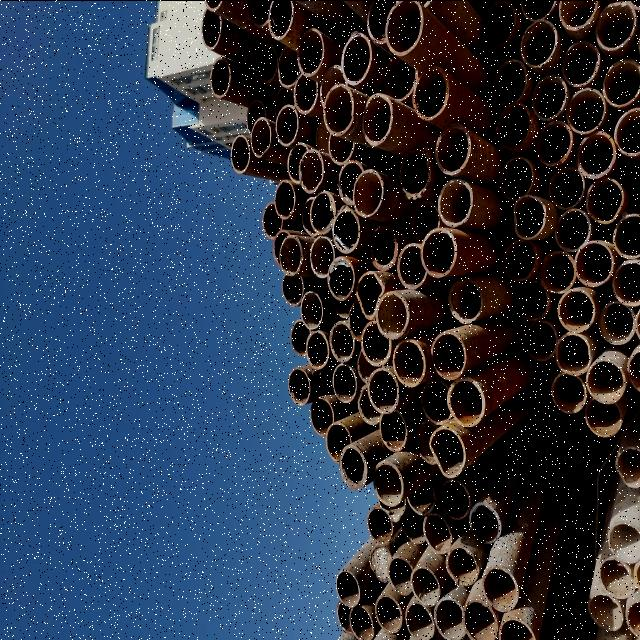pipe: (594, 0, 635, 52), (411, 64, 449, 120), (385, 1, 423, 57), (447, 376, 485, 430), (428, 330, 468, 380), (434, 122, 472, 174), (602, 56, 640, 108), (429, 426, 465, 480), (397, 147, 433, 201), (564, 88, 606, 134), (419, 227, 456, 279), (480, 564, 520, 612), (573, 238, 613, 286), (519, 18, 557, 68), (576, 131, 616, 177), (535, 120, 574, 166), (585, 176, 623, 223), (383, 52, 417, 104), (556, 289, 596, 333), (586, 359, 625, 404), (494, 104, 532, 150), (562, 40, 600, 86), (340, 31, 372, 85), (481, 1, 517, 48), (582, 396, 622, 438), (361, 92, 392, 146), (597, 301, 635, 345), (531, 75, 567, 121), (554, 206, 590, 252), (437, 178, 471, 226), (375, 290, 409, 338), (554, 331, 591, 375), (392, 339, 424, 389), (322, 84, 354, 134), (598, 557, 636, 599), (548, 165, 584, 209), (502, 238, 538, 282), (448, 278, 482, 324), (512, 194, 546, 240), (352, 168, 383, 218), (462, 597, 498, 640), (395, 242, 427, 290), (550, 372, 586, 414), (540, 252, 576, 294), (355, 270, 385, 320), (366, 0, 400, 44), (493, 60, 527, 104), (606, 522, 640, 566), (420, 380, 452, 426), (499, 157, 533, 200), (610, 258, 640, 306), (587, 592, 623, 632), (432, 598, 466, 640), (515, 280, 549, 322), (367, 368, 398, 414), (372, 461, 403, 506), (445, 545, 479, 586), (468, 503, 501, 545), (407, 200, 440, 242), (361, 320, 391, 366), (368, 225, 397, 272), (523, 322, 557, 362), (296, 28, 324, 76), (338, 444, 368, 488), (614, 106, 640, 156), (337, 160, 365, 206), (612, 212, 640, 258), (438, 480, 470, 520), (410, 566, 440, 608), (422, 512, 452, 554), (319, 64, 345, 112), (325, 420, 353, 464), (379, 408, 407, 452), (332, 207, 358, 254), (614, 445, 640, 491), (386, 555, 414, 597), (558, 1, 598, 30), (327, 256, 353, 300), (308, 235, 334, 279), (309, 191, 335, 235), (298, 148, 324, 192), (405, 602, 435, 640), (374, 595, 402, 635), (293, 70, 317, 116), (400, 502, 426, 544), (309, 396, 335, 438), (329, 320, 355, 362), (413, 421, 437, 465), (278, 43, 302, 87), (328, 125, 354, 165), (268, 0, 294, 40), (305, 328, 329, 371), (348, 298, 370, 344), (369, 543, 393, 585), (358, 384, 382, 426), (279, 235, 303, 277), (274, 105, 298, 147), (366, 507, 393, 543), (314, 113, 336, 157), (286, 142, 308, 186), (332, 363, 355, 405), (287, 366, 311, 406), (249, 116, 271, 158), (209, 57, 231, 99), (336, 570, 360, 608), (201, 7, 221, 52), (348, 606, 374, 640), (357, 348, 383, 382), (290, 317, 312, 357), (300, 290, 322, 330), (262, 200, 284, 240), (256, 43, 278, 83), (274, 178, 295, 218), (229, 133, 249, 175), (272, 229, 291, 271), (498, 619, 535, 640), (281, 273, 303, 307), (330, 288, 354, 318), (301, 196, 319, 236), (246, 98, 266, 134), (519, 1, 556, 20), (273, 86, 293, 120), (626, 346, 640, 393), (336, 599, 354, 635), (625, 595, 639, 639), (251, 1, 269, 27), (203, 1, 221, 12)
